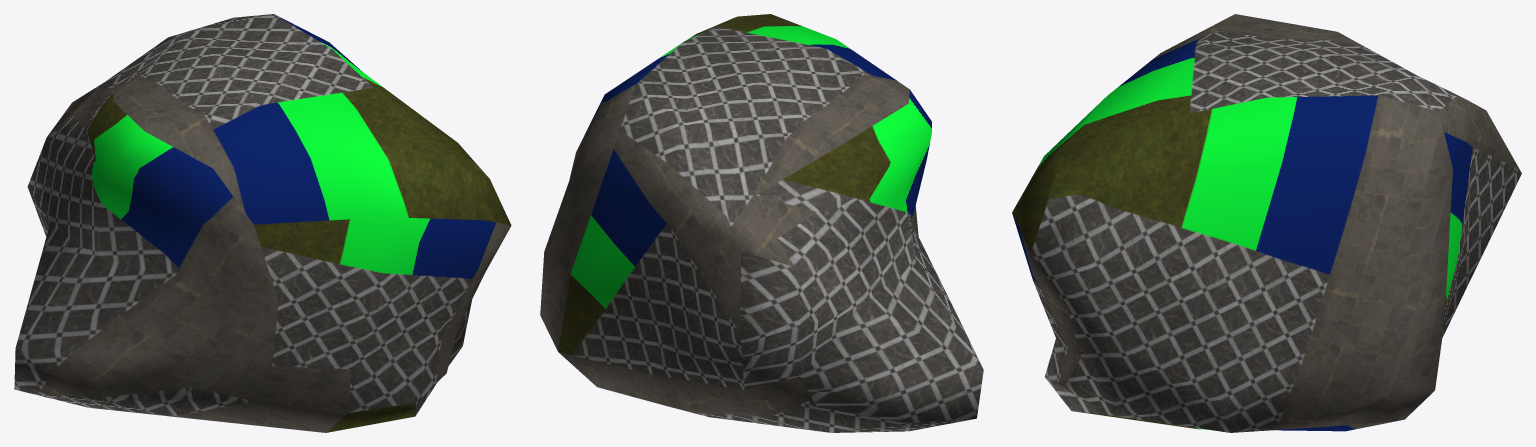
The model's file is Rock1.fbx.
3 renders of one model, left to right at view 1: azimuth 30°, elevation 25°; view 2: azimuth 150°, elevation 25°; view 3: azimuth 270°, elevation 25°, orthographic. The views are drawn at different scales.
Parts seen in each view (by area): view 1: Rock; view 2: Rock; view 3: Rock.
Boxes of the visible parts, left/top/right/bottom form: Rock: left=14, top=14, right=511, bottom=432; Rock: left=540, top=14, right=983, bottom=432; Rock: left=1012, top=14, right=1521, bottom=432.
Bounding box in the file's own units: 174 × 138 × 182.
